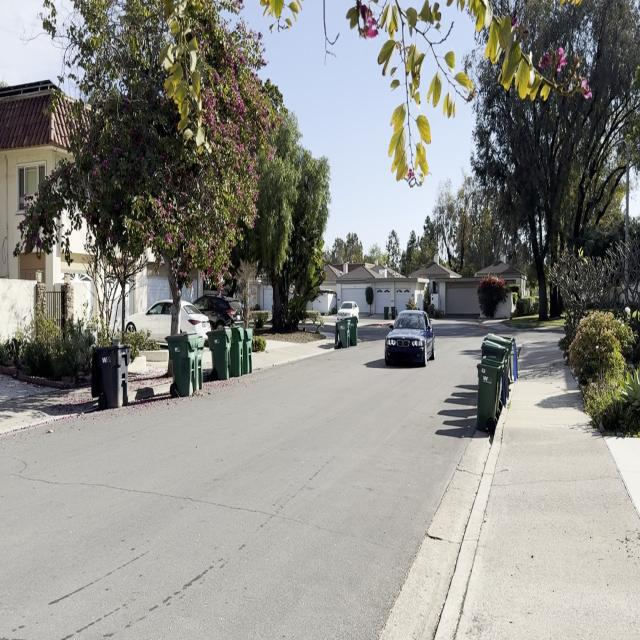Carbeetle: (382, 298, 438, 377)
